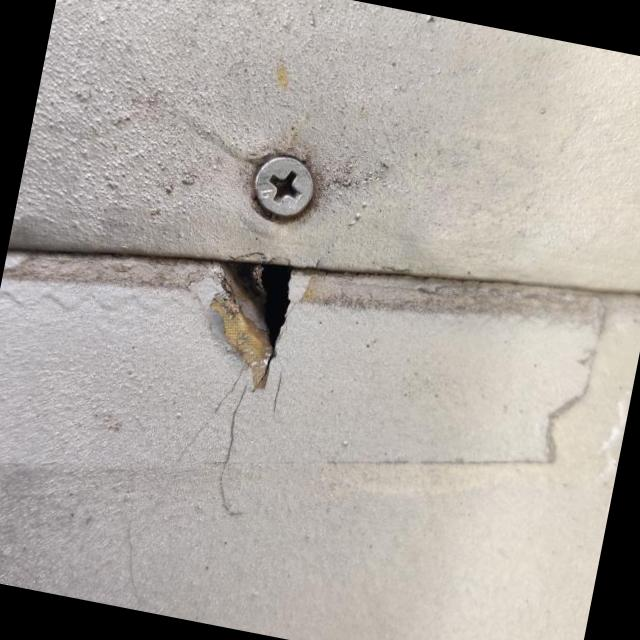Crack: (192, 263, 291, 388)
